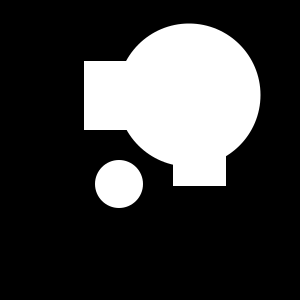circle: (84, 61, 153, 130), (173, 133, 226, 186)
rectangle: (118, 23, 260, 166), (95, 160, 143, 208)
